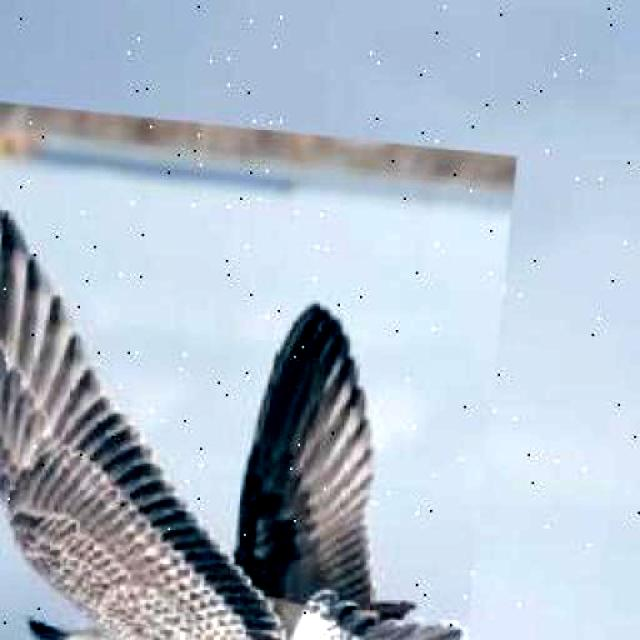airplane: (0, 89, 518, 640)
